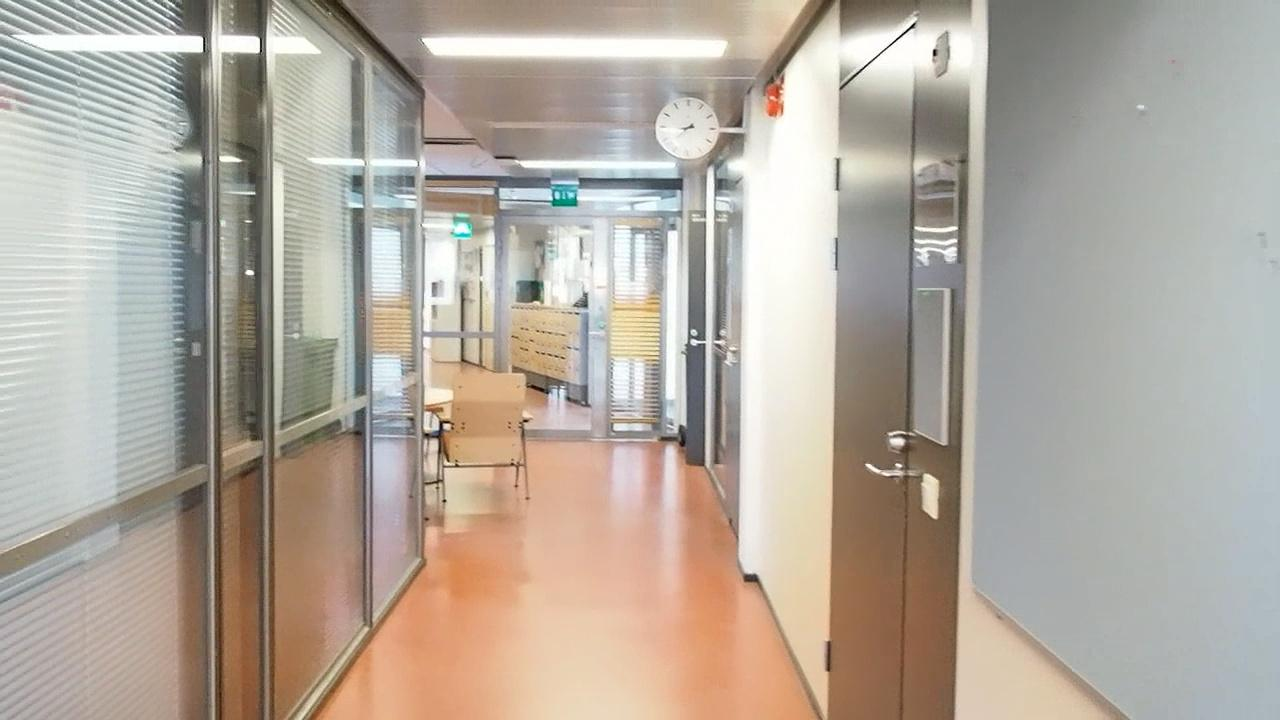chair: (439, 373, 531, 513)
clock: (653, 92, 720, 156)
